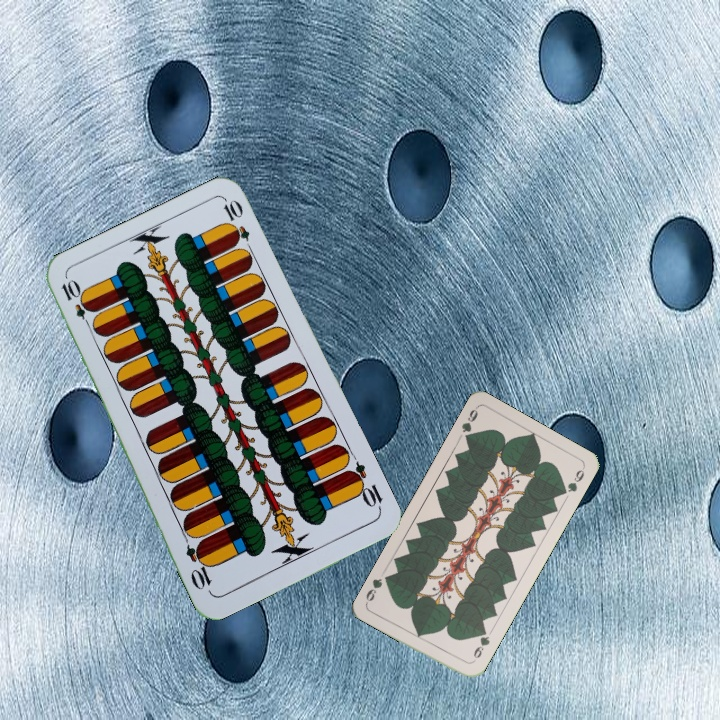E10: (343, 458, 386, 514), (57, 276, 96, 332)
G9: (468, 625, 493, 665), (458, 404, 481, 445)
